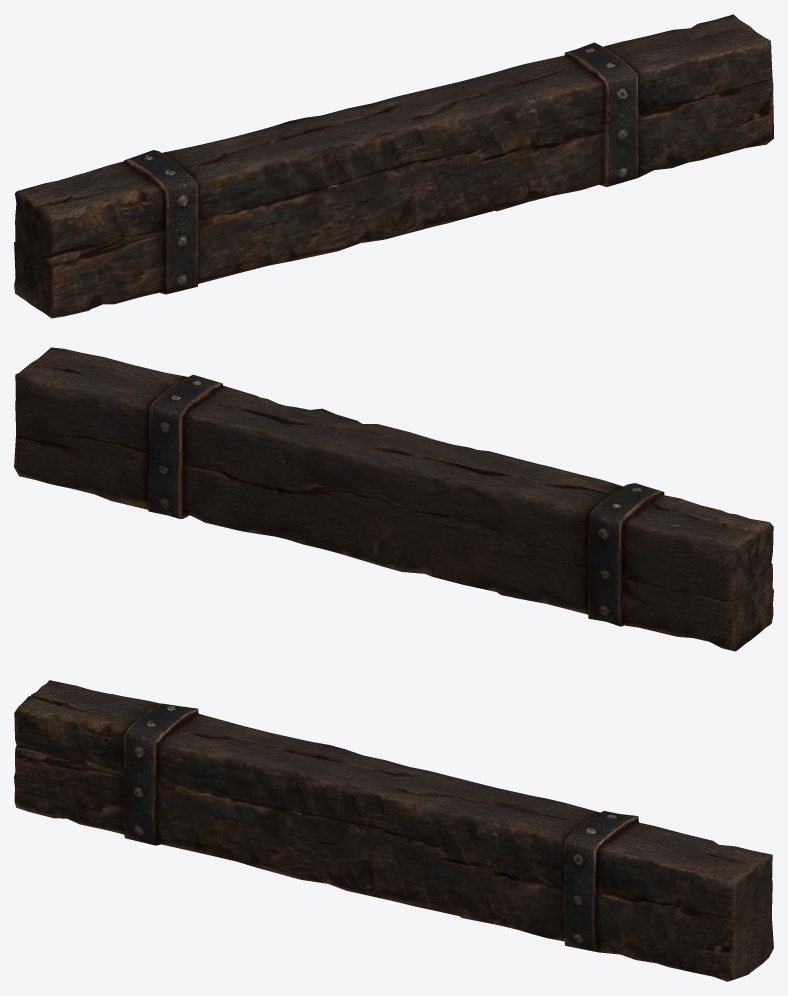
The model's file is beam.glb.
3 renders of one model, top to bottom at view 1: azimuth 30°, elevation 25°; view 2: azimuth 150°, elevation 25°; view 3: azimuth 330°, elevation 25°, orthographic.
Visible parts, largest first — view 1: beam; view 2: beam; view 3: beam.
Boxes of the visible parts, bbox=[...] form: beam: bbox=[14, 14, 773, 318]; beam: bbox=[14, 347, 773, 651]; beam: bbox=[14, 680, 773, 981].
Size of the model in its own units: 4.66 by 0.75 by 0.55.
Materials: 1 (1 with a texture image).
